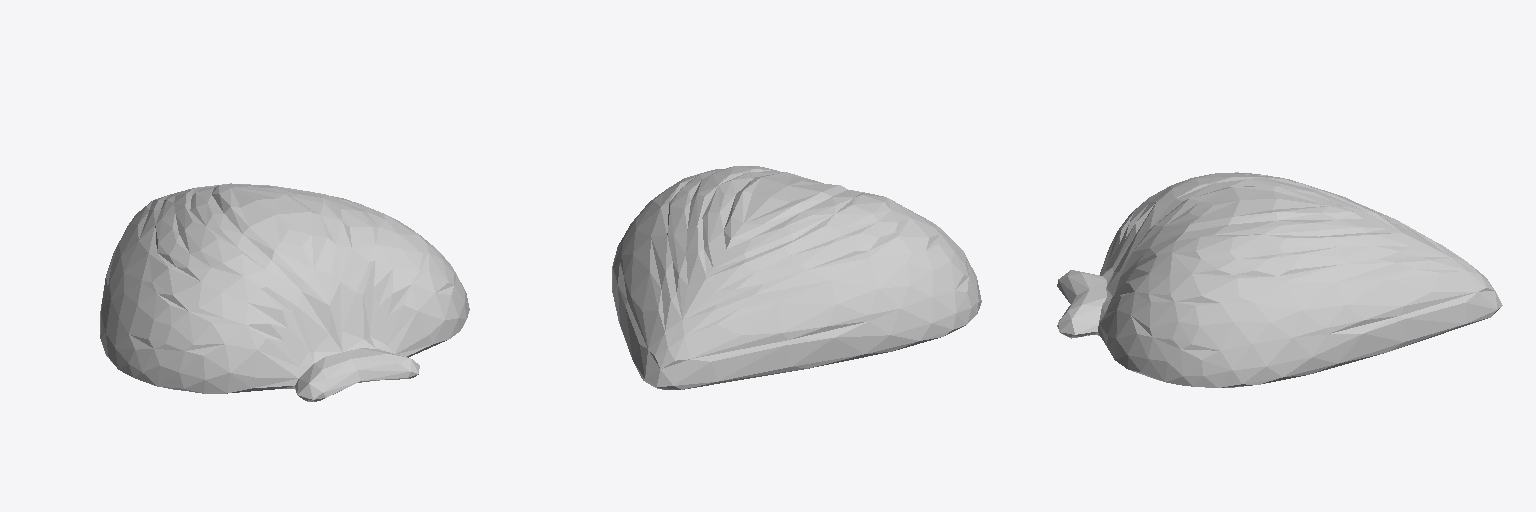
File: Clam_Spade_final.obj
3 renders of one model, left to right at view 1: azimuth 30°, elevation 25°; view 2: azimuth 150°, elevation 25°; view 3: azimuth 270°, elevation 25°, orthographic.
Bounding box in the file's own units: 8.9 × 2.9 × 10.21.